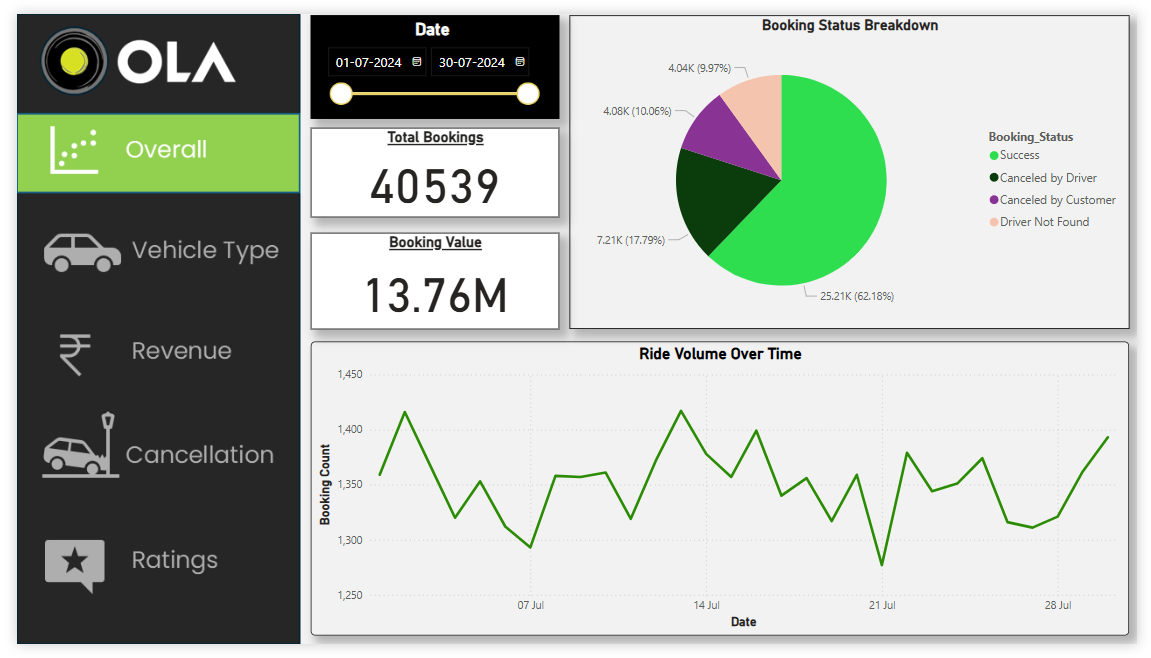

Layout of this report page (visuals, bound fields, positions):
{"tool":"powerbi","page":{"name":"Page 1","canvas":[1280,720],"ordinal":0},"visuals":[{"type":"actionButton","box":[0,227,325.2,95.7],"z":0},{"type":"actionButton","box":[0,333.7,325.2,95.7],"z":1000},{"type":"actionButton","box":[0,444.2,325.2,95.7],"z":2000},{"type":"actionButton","box":[0,574.2,325.2,95.7],"z":3000},{"type":"lineChart","title":"Ride Volume Over Time","fields":{"Y":["CountNonNull(July (2).Booking_ID)"],"Category":["July (2).Date"]},"box":[336.2,373.8,935,336.2],"z":4000},{"type":"pieChart","title":"Booking Status Breakdown","fields":{"Category":["July (2).Booking_Status"],"Y":["CountNonNull(July (2).Booking_Status)"]},"box":[631.2,1.2,640,358.8],"z":5000},{"type":"slicer","title":"Date","fields":{"Values":["July (2).Date"]},"box":[336.2,1.2,283.8,118.8],"z":6000},{"type":"card","title":"Total Bookings","fields":{"Values":["Count(July (2).Booking_ID)"]},"box":[336.2,130,283.8,102.5],"z":7000},{"type":"card","title":"Booking Value","fields":{"Values":["Sum(July (2).Booking_Value)"]},"box":[336.2,250,283.8,110],"z":8000}]}

Visuals, with their boxes in screenshot pixels (x1, y1, x2, y2), scaled from the page's 1280x720 canvas onto the 1151x658 screenshot:
actionButton: 0 207 292 295
actionButton: 0 305 292 392
actionButton: 0 406 292 493
actionButton: 0 525 292 612
"Ride Volume Over Time" lineChart: 302 342 1143 649
"Booking Status Breakdown" pieChart: 568 1 1143 329
"Date" slicer: 302 1 558 110
"Total Bookings" card: 302 119 558 212
"Booking Value" card: 302 228 558 329
